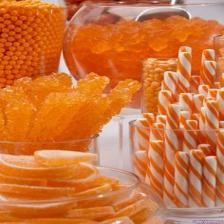orange: (1, 151, 163, 224), (65, 16, 224, 87), (140, 88, 224, 207), (1, 73, 141, 142), (0, 1, 65, 88), (142, 58, 177, 114), (177, 46, 193, 94), (177, 46, 193, 77), (162, 71, 177, 101), (203, 61, 217, 88), (214, 35, 224, 57), (216, 57, 224, 82), (191, 76, 201, 94), (204, 49, 215, 63), (218, 48, 224, 57)
